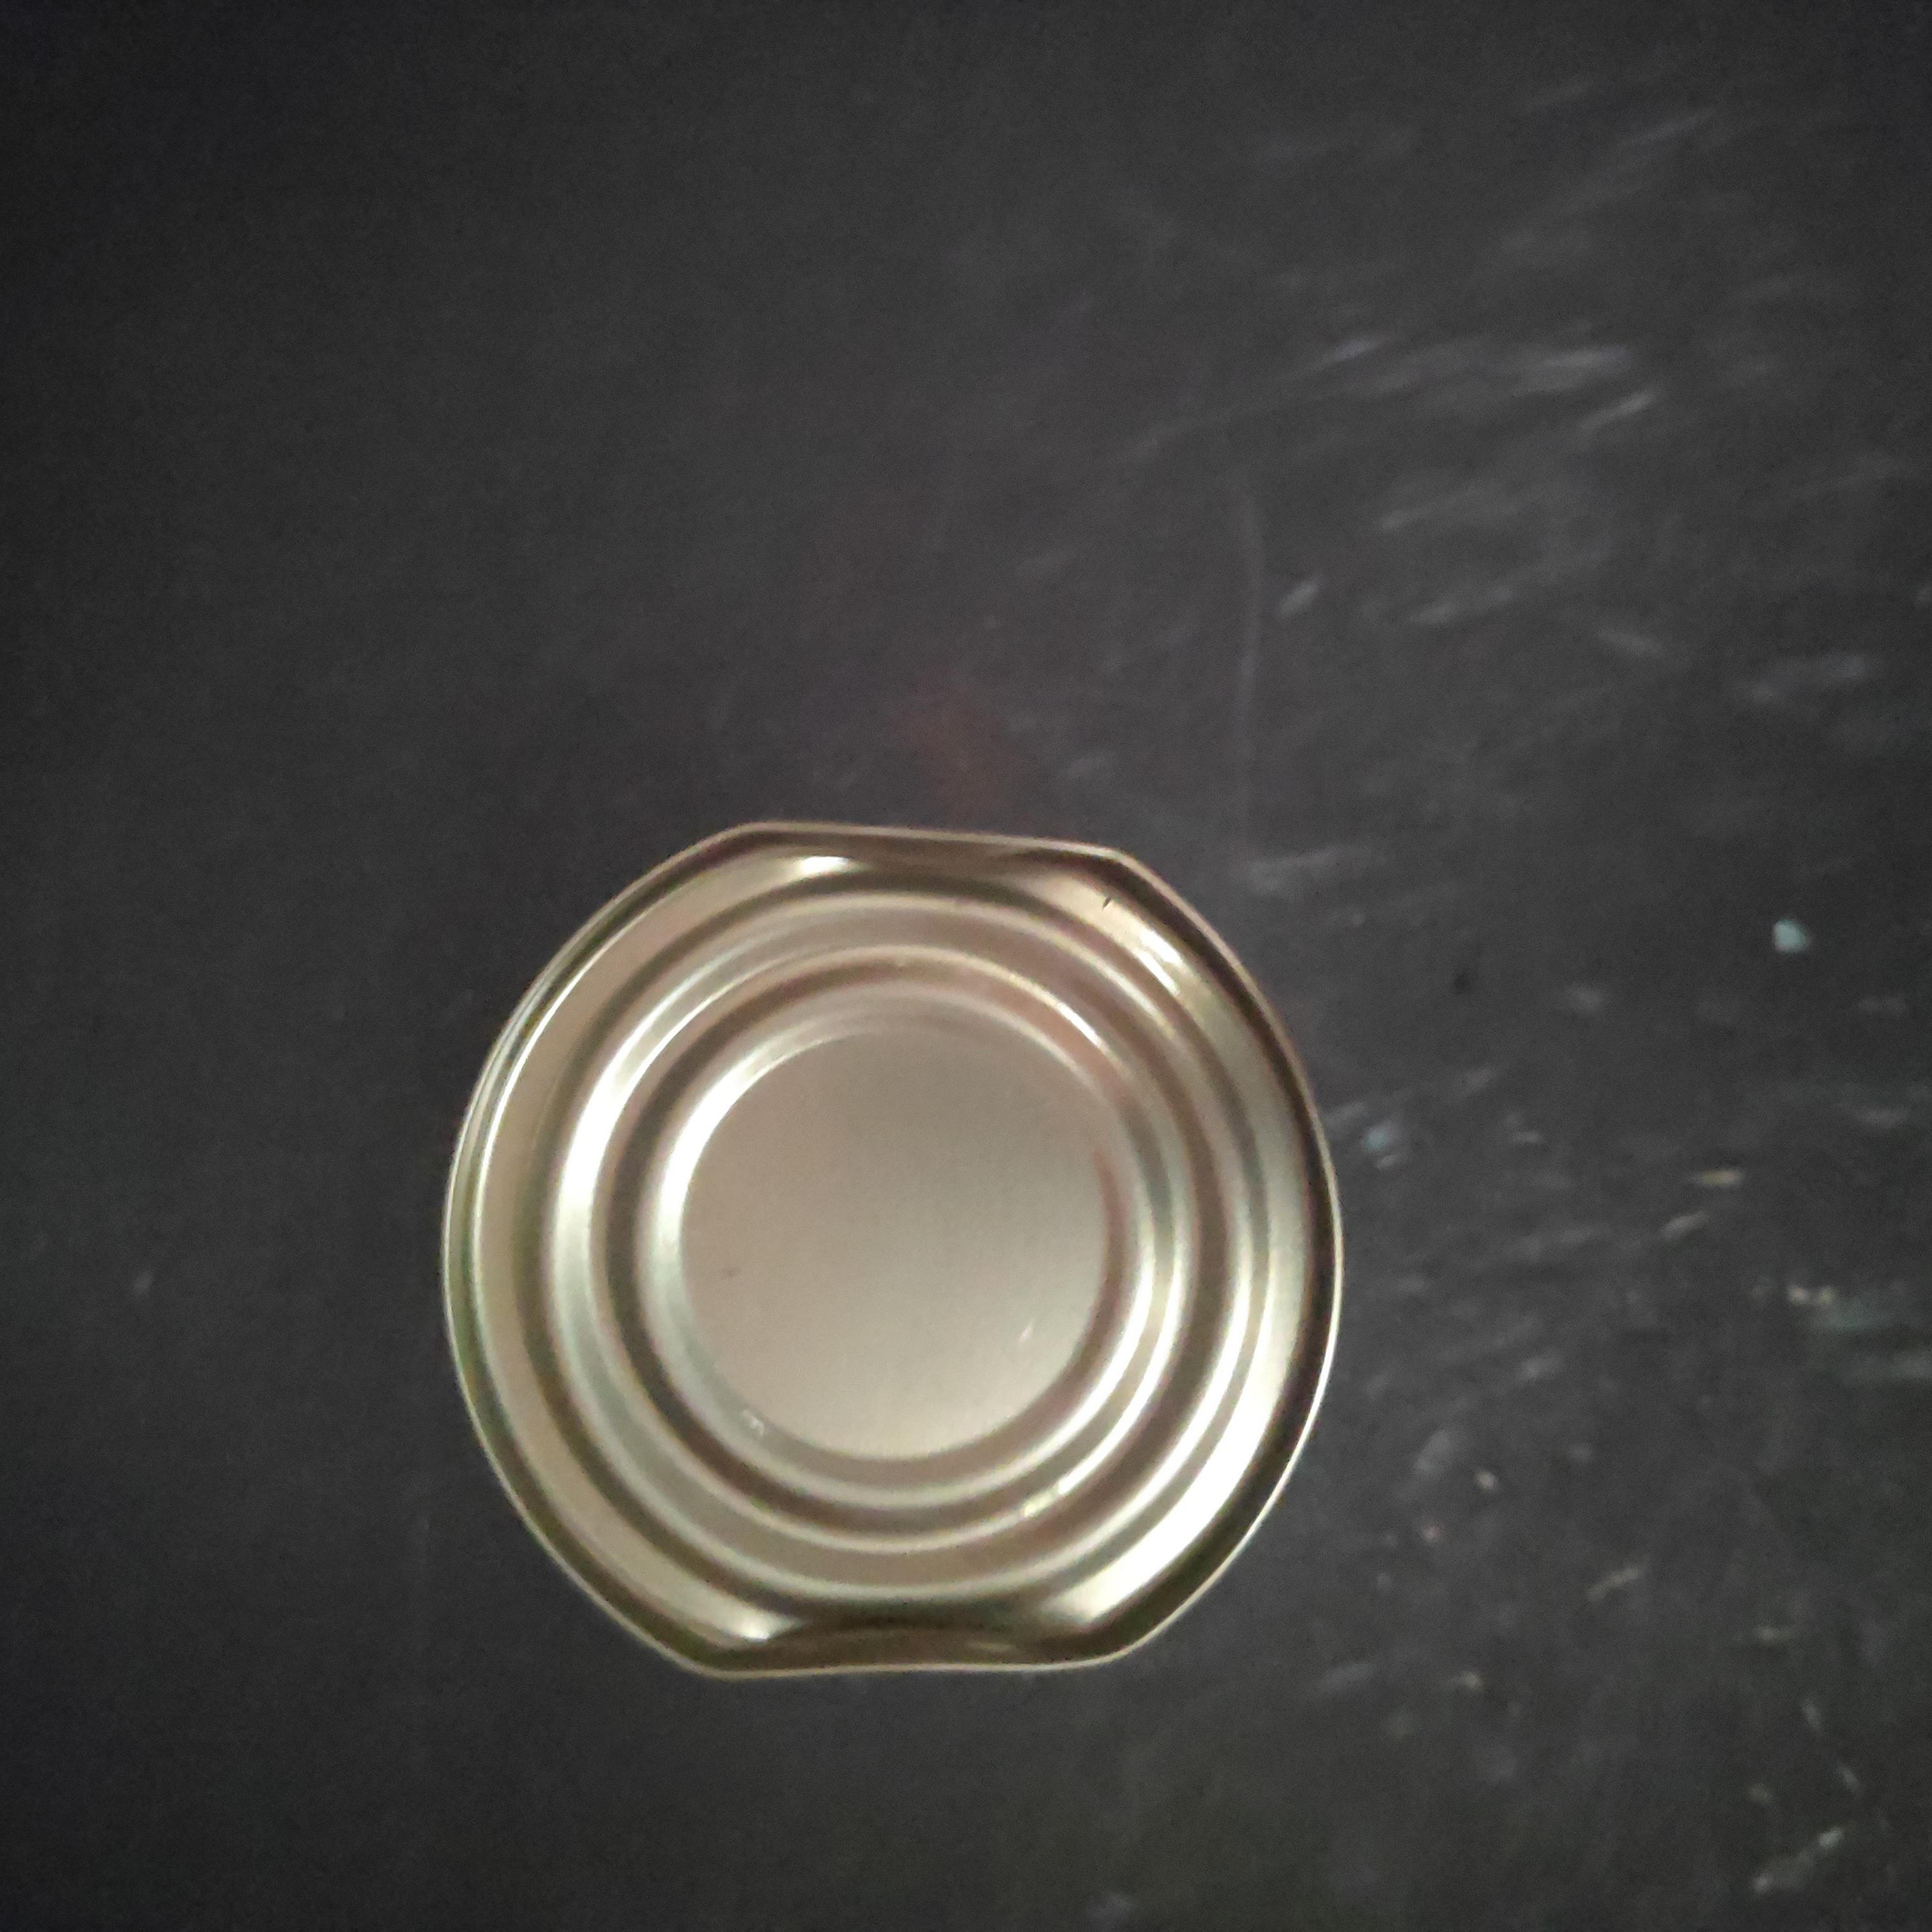Minor Defect: (573, 237, 1509, 1116)
